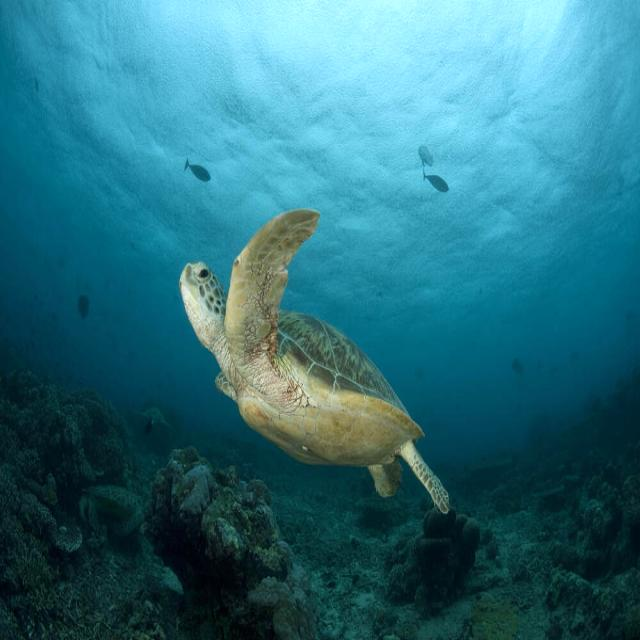Sea turtle: (177, 201, 474, 528)
